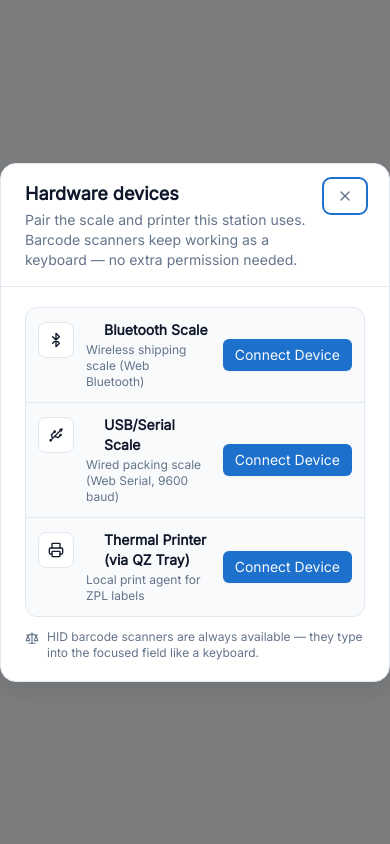
Test: DeviceManagerModal › pairs a USB scale through Web Serial and toasts success
The width and height of the screenshot is (390, 844).
Click the button with test id "device-connect-serial-scale" at (287, 460), box [223,444,352,476]
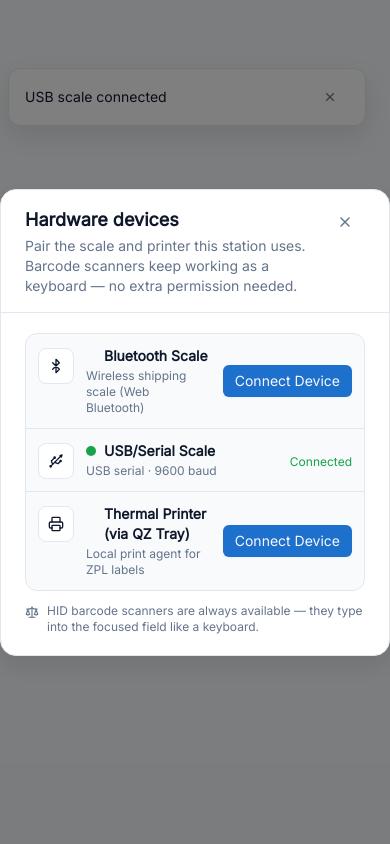
Expected: the message with test id "app-toast" reads "USB scale connected", [25,88,167,105]
